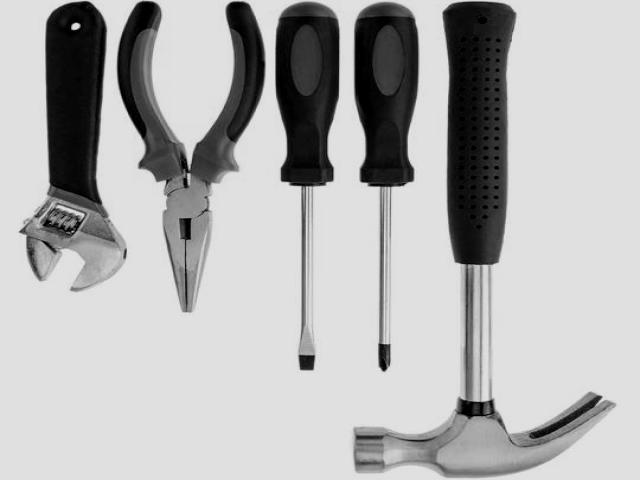Adjustable spanner: (20, 2, 126, 292)
Hammer: (354, 2, 615, 477)
Needle-nose pliers: (119, 2, 264, 312)
Screwdriver: (355, 3, 419, 371), (276, 2, 339, 370)
